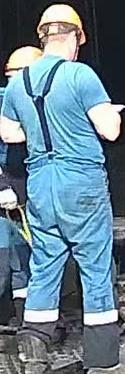helmet: (36, 3, 82, 34), (5, 45, 43, 76)
